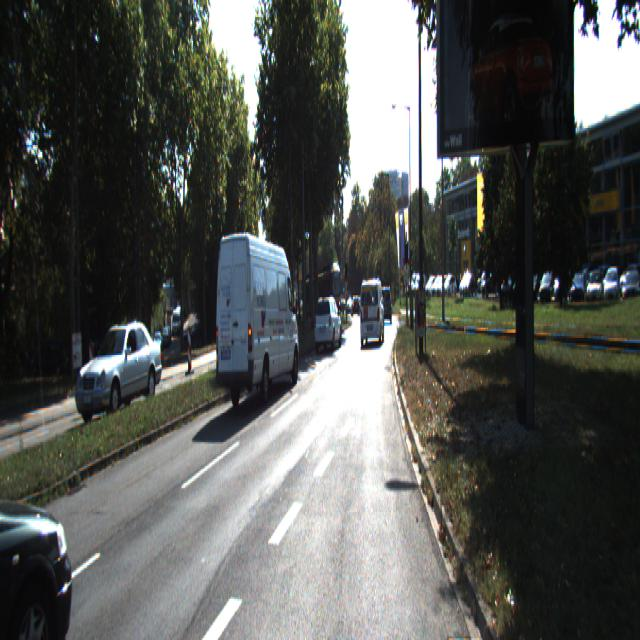Car: (0, 372, 77, 638), (213, 224, 300, 413), (74, 318, 164, 419), (307, 269, 342, 323), (222, 311, 252, 367), (360, 278, 384, 347), (313, 295, 341, 354)
